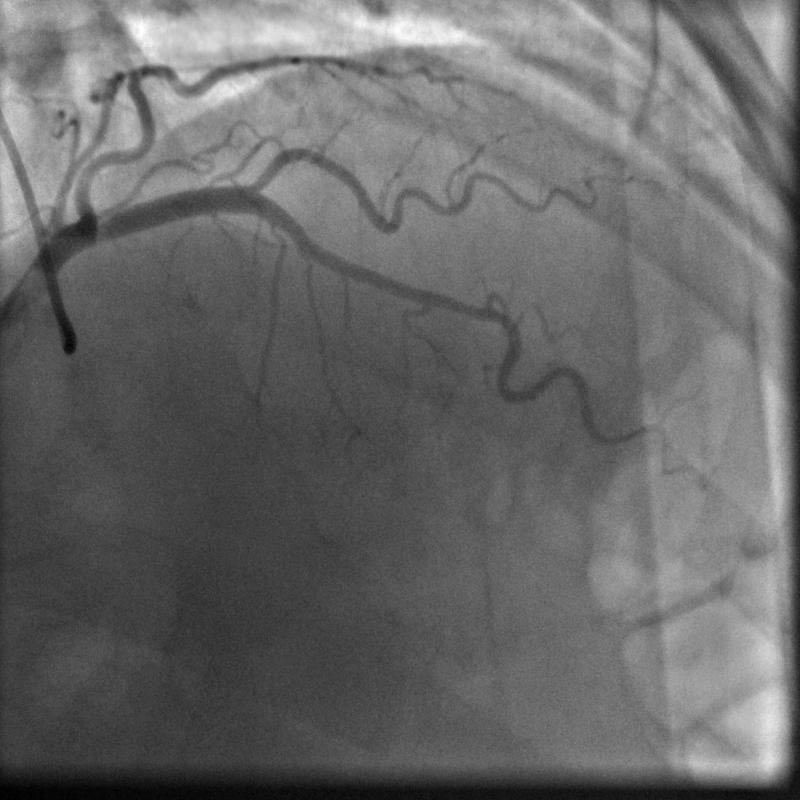Stenosis: (457, 295, 505, 325)
